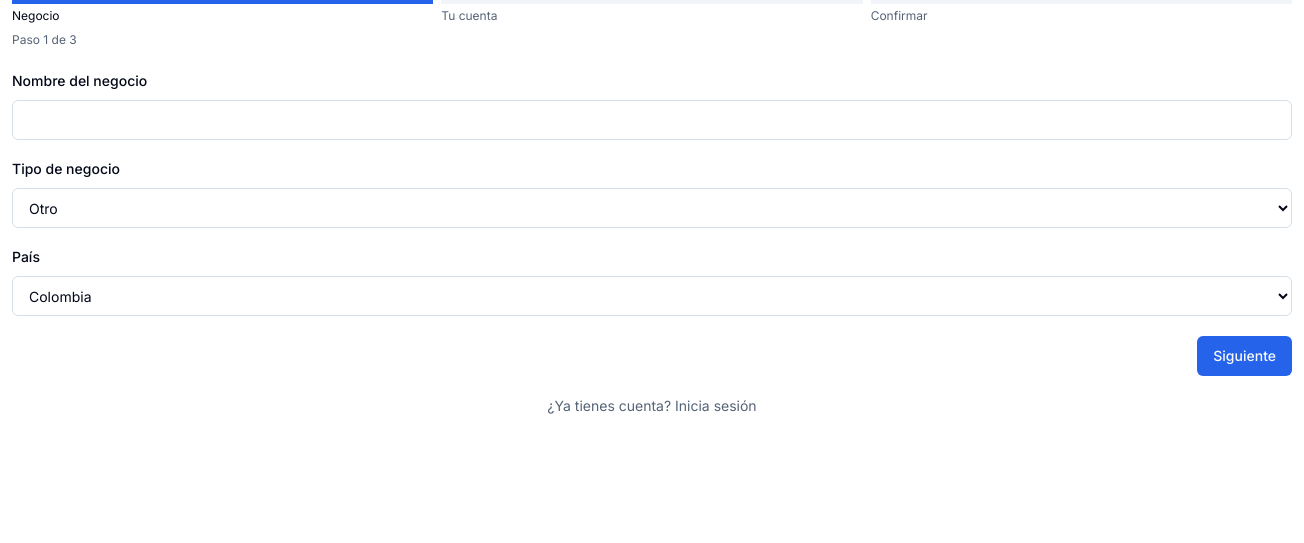
Test: OnboardingWizard › conserva lo escrito al volver atrás
Type "Mi Negocio" into the field labelled "Nombre del negocio".
click(652, 120); type("Mi Negocio")  # box left=12, top=100, right=1292, bottom=140
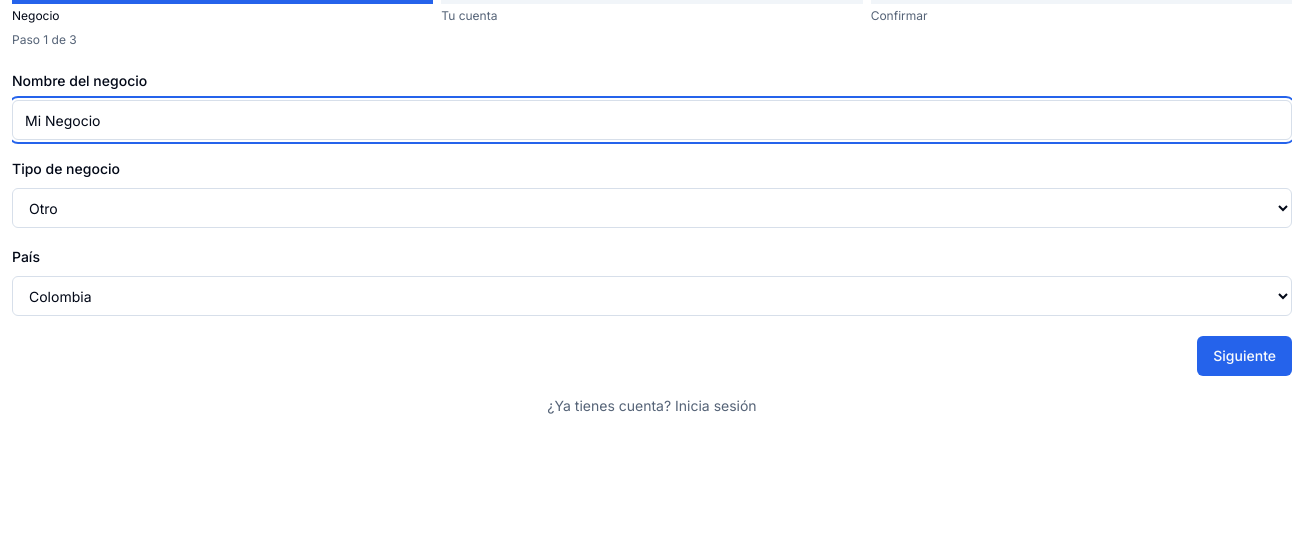
Click the button "Siguiente".
click(1245, 356)  # box left=1197, top=336, right=1292, bottom=376
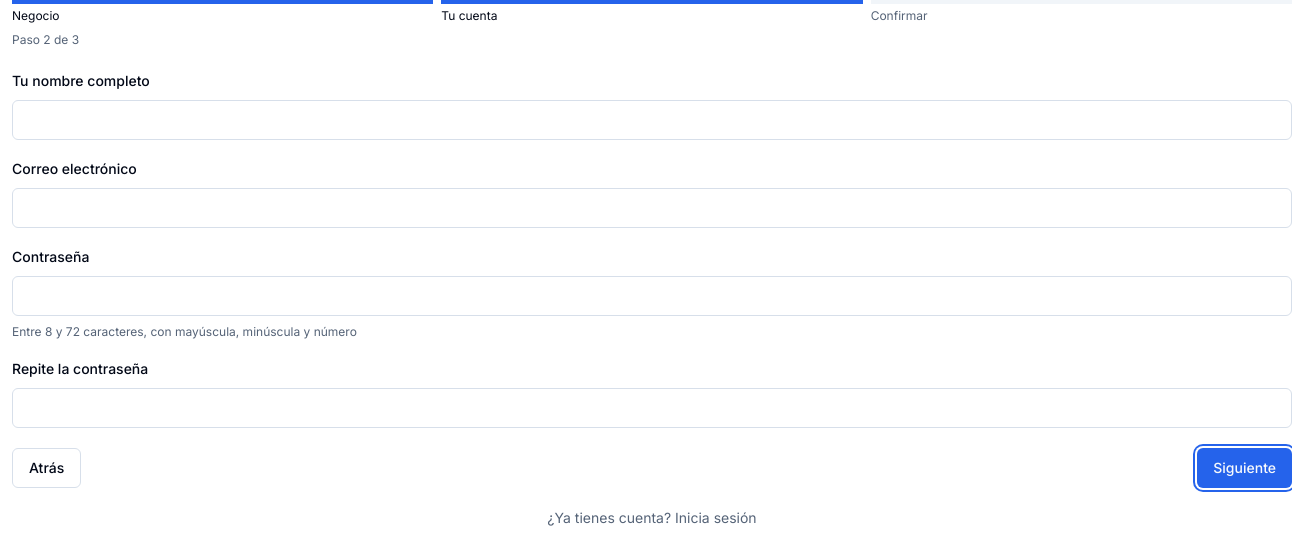
Click the button "Atrás".
click(47, 468)  # box left=12, top=448, right=81, bottom=488
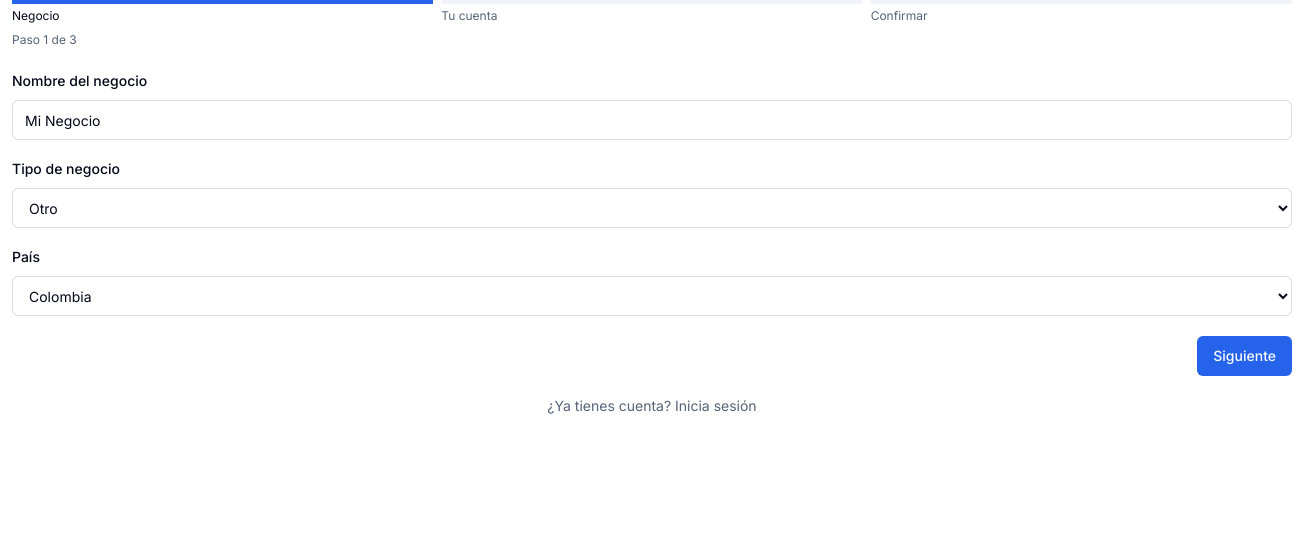
Result: the field labelled "Nombre del negocio" holds "Mi Negocio" at left=12, top=100, right=1292, bottom=140
